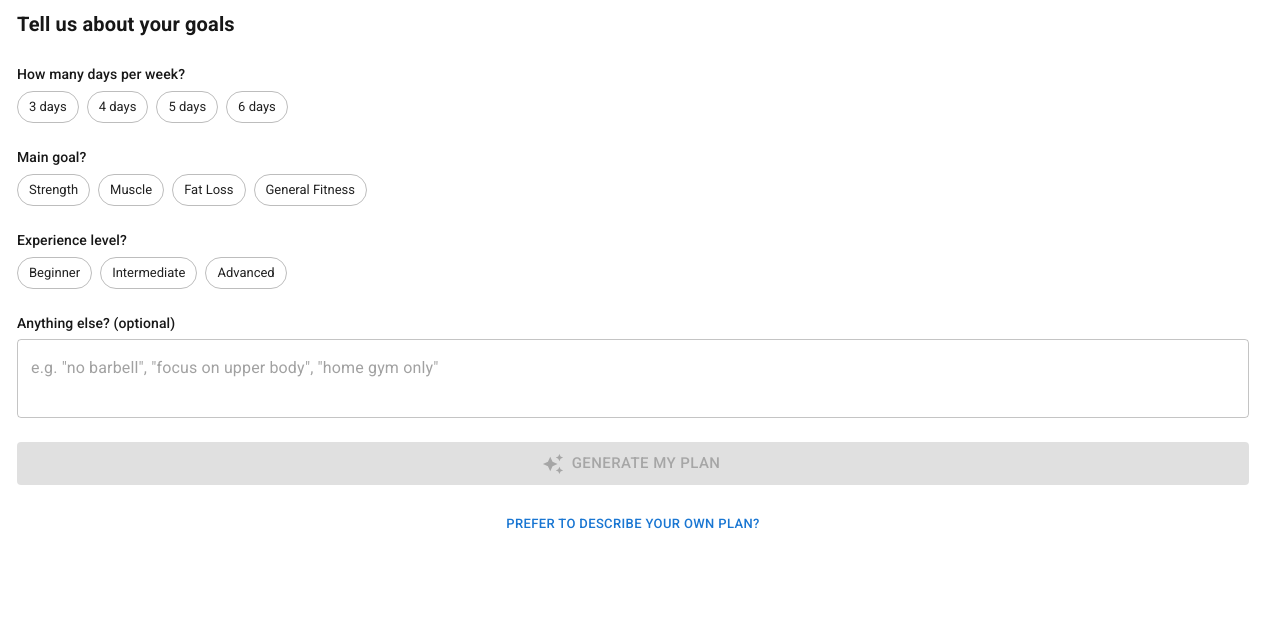
Test: AiFormScreen — errors › shows an error alert when the API returns a non-ok response
Click the button "4 days" at (118, 107), box [87, 91, 148, 123]
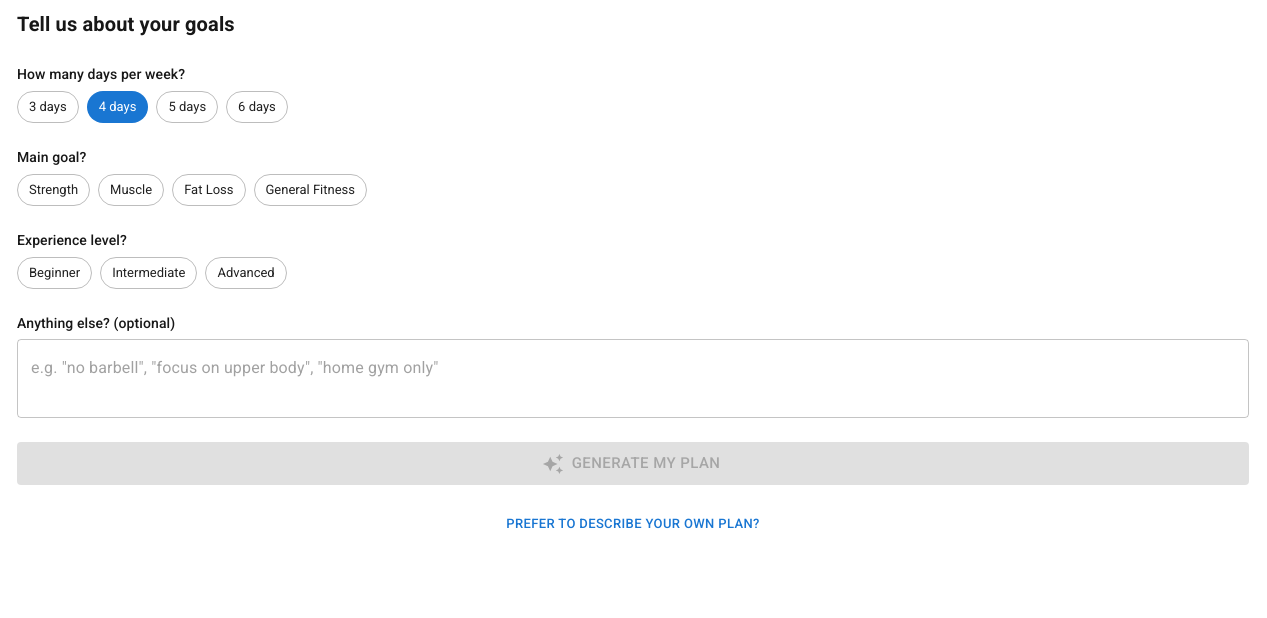
Click the button "Muscle" at (131, 190), box [98, 174, 164, 206]
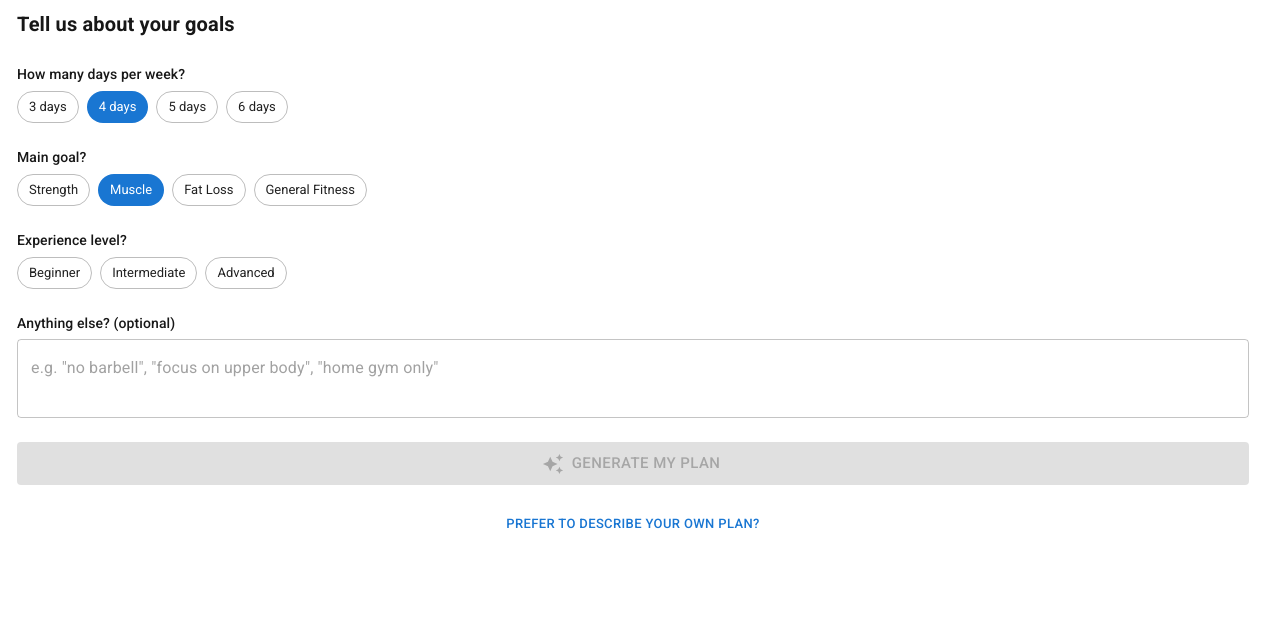
Click the button "Intermediate" at (149, 273), box [100, 257, 197, 289]
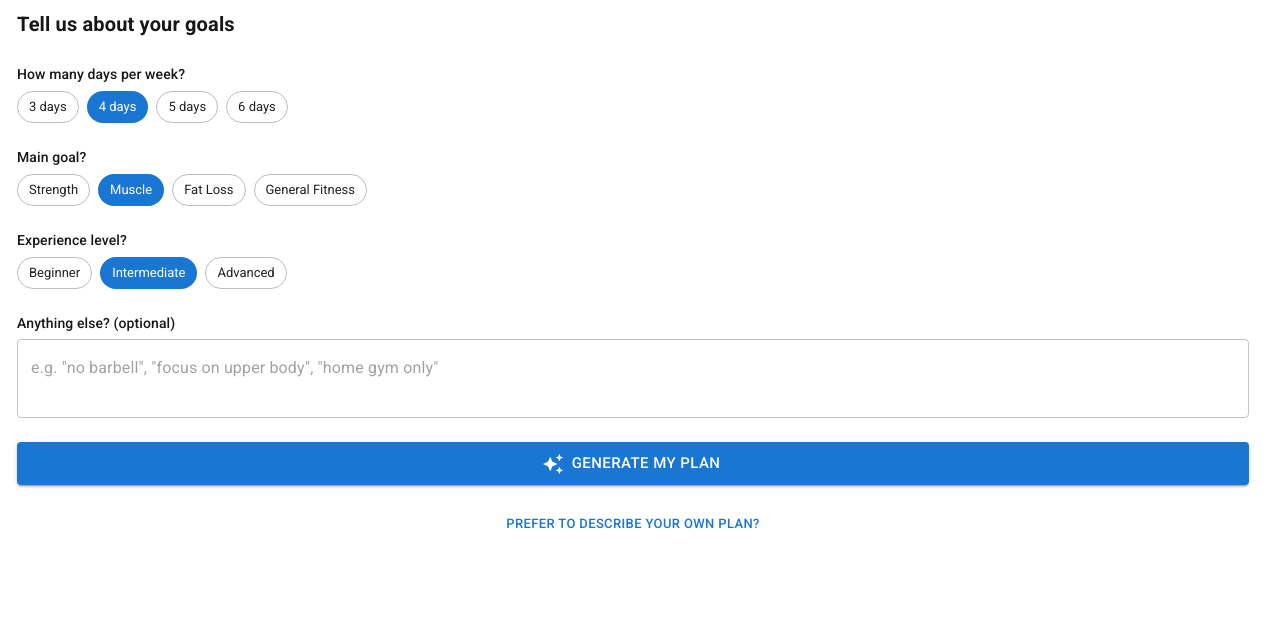
Click the button "Generate my plan" at (633, 464), box [17, 442, 1249, 485]
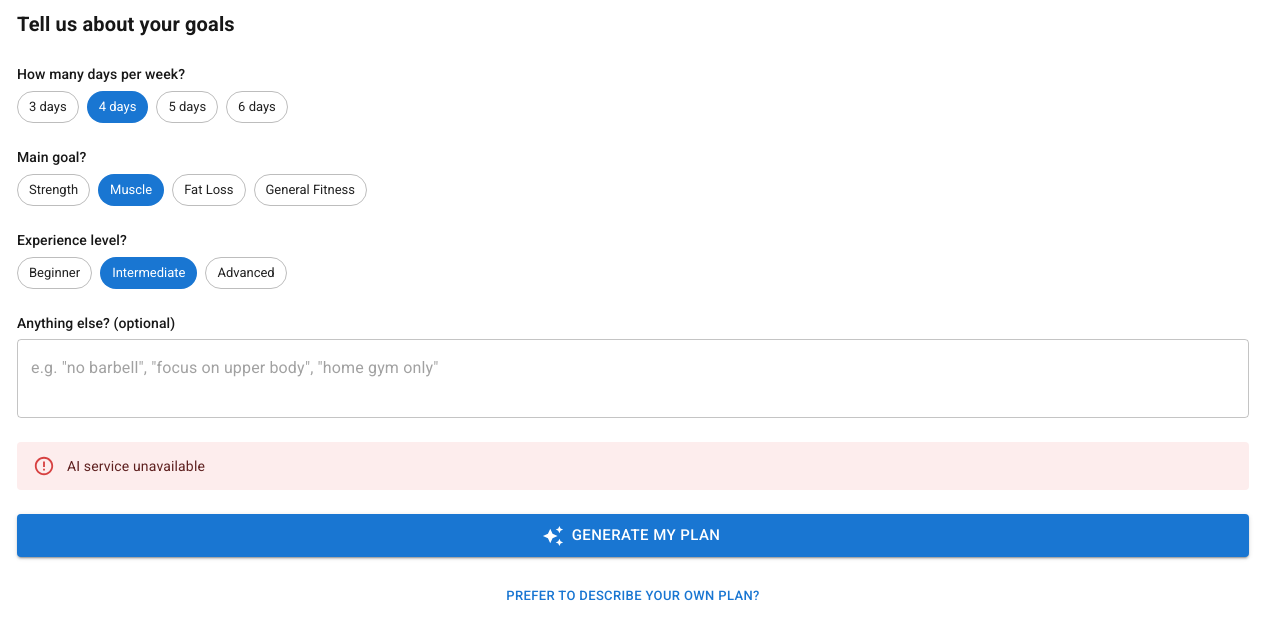
Check: the message "AI service unavailable" is shown, box [17, 442, 1249, 490]
Check: the message reads "AI service unavailable", box [67, 458, 205, 474]
